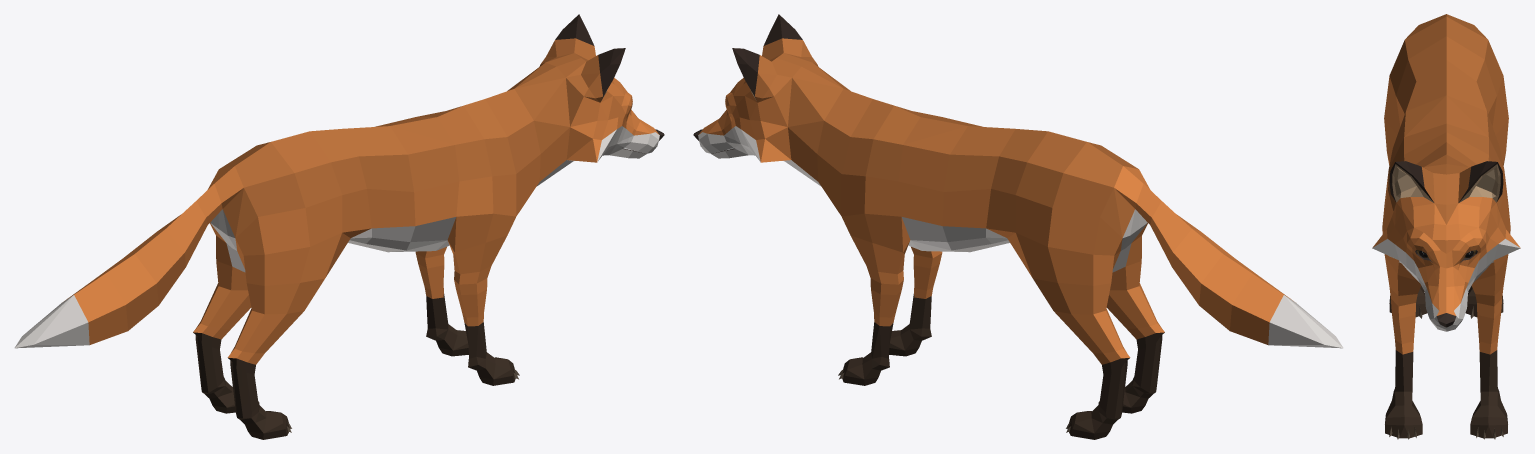
Rendered from Fox.FBX.
3 views of the same model, side by side, from view 1: azimuth 30°, elevation 25°; view 2: azimuth 150°, elevation 25°; view 3: azimuth 270°, elevation 25° (orthographic). The views are drawn at different scales.
Parts seen in each view (by area): view 1: Fox; view 2: Fox; view 3: Fox.
Boxes of the visible parts, left/top/right/bottom form: Fox: left=14, top=14, right=664, bottom=439; Fox: left=693, top=14, right=1343, bottom=439; Fox: left=1372, top=14, right=1520, bottom=439.
Bounding box in the file's own units: 215 × 96.04 × 38.67.
